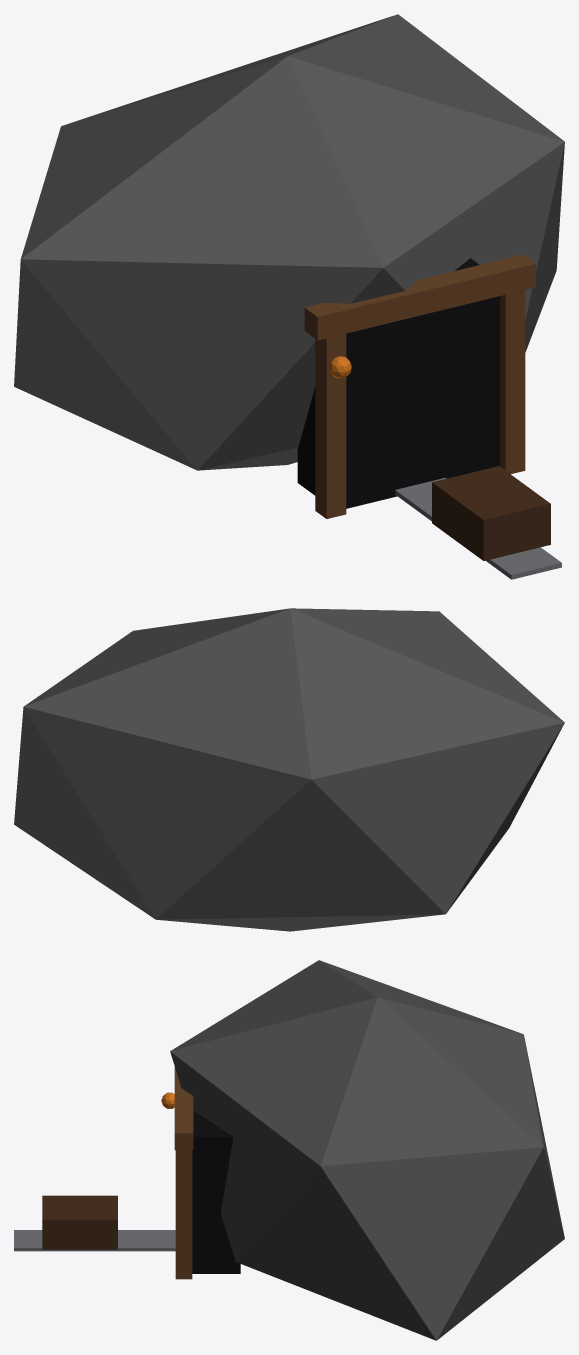
Rendered from SM_GZ_mine.fbx.
3 views of the same model, one above another, from view 1: azimuth 30°, elevation 25°; view 2: azimuth 150°, elevation 25°; view 3: azimuth 270°, elevation 25° (orthographic). The views are drawn at different scales.
Visible parts, largest first — view 1: SM_GZ_mine; view 2: SM_GZ_mine; view 3: SM_GZ_mine.
Boxes of the visible parts, x1,y1,x2,y2 form: SM_GZ_mine: [14, 14, 564, 579]; SM_GZ_mine: [14, 608, 564, 931]; SM_GZ_mine: [14, 960, 564, 1340].
Bounding box in the file's own units: 1101 × 698 × 1167.
